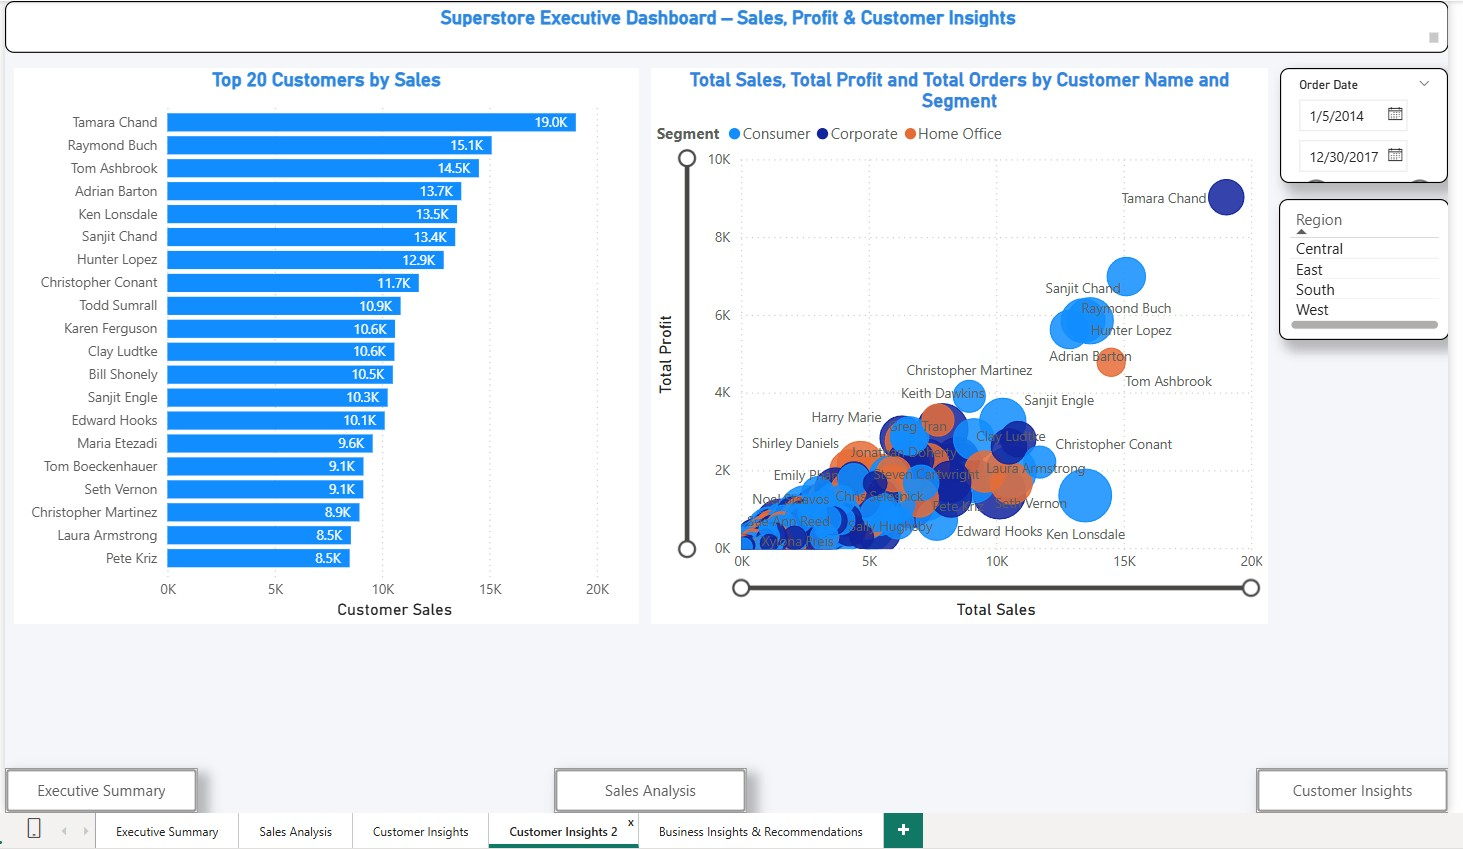

The dashboard page shown, as its layout file describes it:
{"tool":"powerbi","page":{"name":"Customer Insights 2","canvas":[1280,720],"ordinal":3},"visuals":[{"type":"clusteredBarChart","title":"Top 20 Customers by Sales","fields":{"Category":["Customer.Customer Name"],"Y":["Calendar.Customer Sales"]},"box":[8,59.4,554.2,493],"z":3000},{"type":"slicer","fields":{"Values":["Sample - Superstore.Order Date"]},"box":[1130.6,59.3,149.4,101.5],"z":6000},{"type":"tableEx","fields":{"Values":["Location.Region"]},"box":[1129.4,175.7,150.6,125.5],"z":7000},{"type":"textbox","title":"Superstore Executive Dashboard – Sales, Profit & Customer Insights","box":[0,0,1280.4,46.1],"z":8000},{"type":"scatterChart","fields":{"X":["Calendar.Total Sales"],"Y":["Calendar.Total Profit"],"Size":["Calendar.Total Orders"],"Series":["Sample - Superstore.Segment"],"Category":["Sample - Superstore.Customer Name"]},"box":[572.8,59.4,547.1,493],"z":8001},{"type":"actionButton","box":[1109.3,680.1,171.1,39.9],"z":8002},{"type":"actionButton","box":[486.8,680.1,171.1,39.9],"z":8003},{"type":"actionButton","box":[0,680.1,171.1,39.9],"z":8004}]}

Visuals, with their boxes on the page's 1280x720 design canvas (x1, y1, x2, y2). These are canvas units, not pixel positions in the 1463x849 screenshot, which may show the page scaled, cropped or inside an application window:
"Top 20 Customers by Sales" clusteredBarChart: pyautogui.locateOnScreen(8, 59, 562, 552)
slicer - Sample - Superstore.Order Date: pyautogui.locateOnScreen(1131, 59, 1280, 161)
tableEx - Location.Region: pyautogui.locateOnScreen(1129, 176, 1280, 301)
"Superstore Executive Dashboard – Sales, Profit & Customer Insights" textbox: pyautogui.locateOnScreen(0, 0, 1280, 46)
scatterChart - Calendar.Total Sales x Calendar.Total Profit: pyautogui.locateOnScreen(573, 59, 1120, 552)
actionButton: pyautogui.locateOnScreen(1109, 680, 1280, 720)
actionButton: pyautogui.locateOnScreen(487, 680, 658, 720)
actionButton: pyautogui.locateOnScreen(0, 680, 171, 720)
